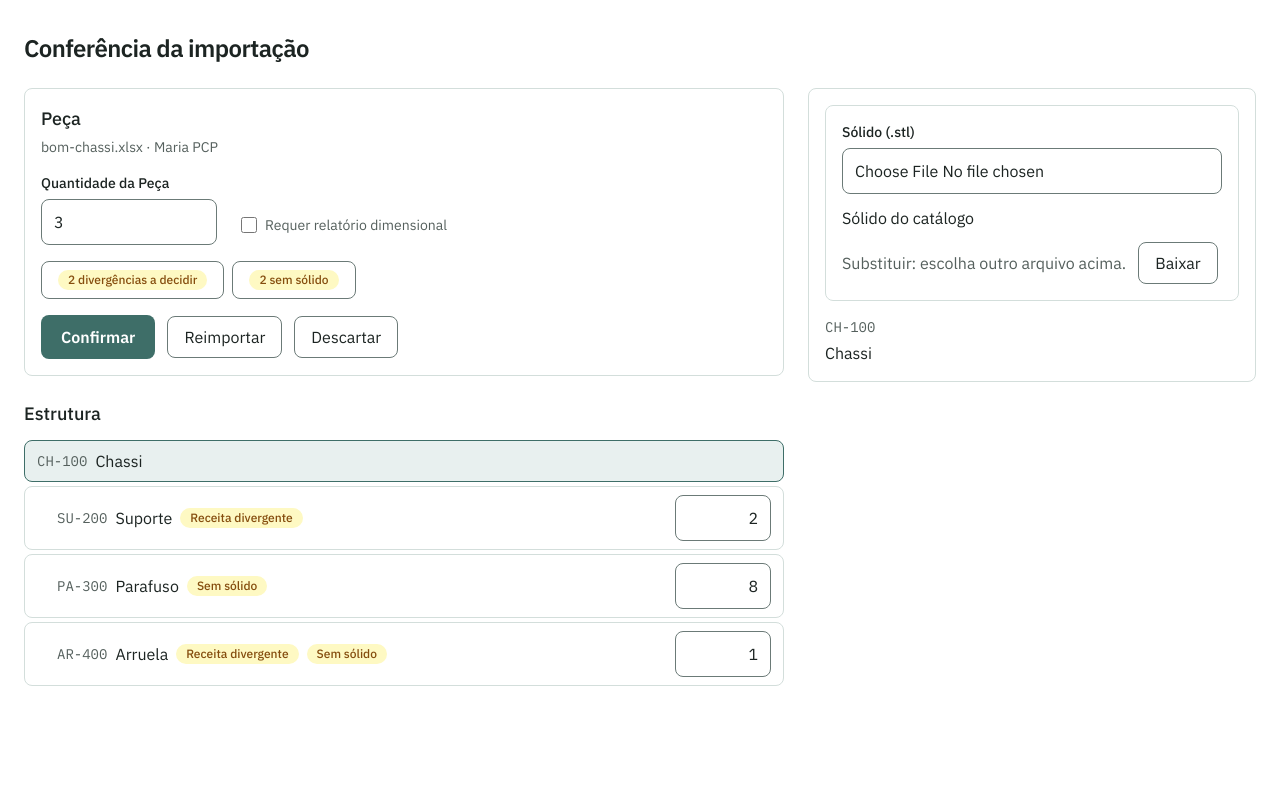
it: ConferenciaDeImportacaoPage › ReceitaDoCatalogoMudou_mostra_a_mensagem_e_rele
The image size is (1280, 800).
Click the button "Confirmar" at (98, 337), box [41, 315, 155, 359]
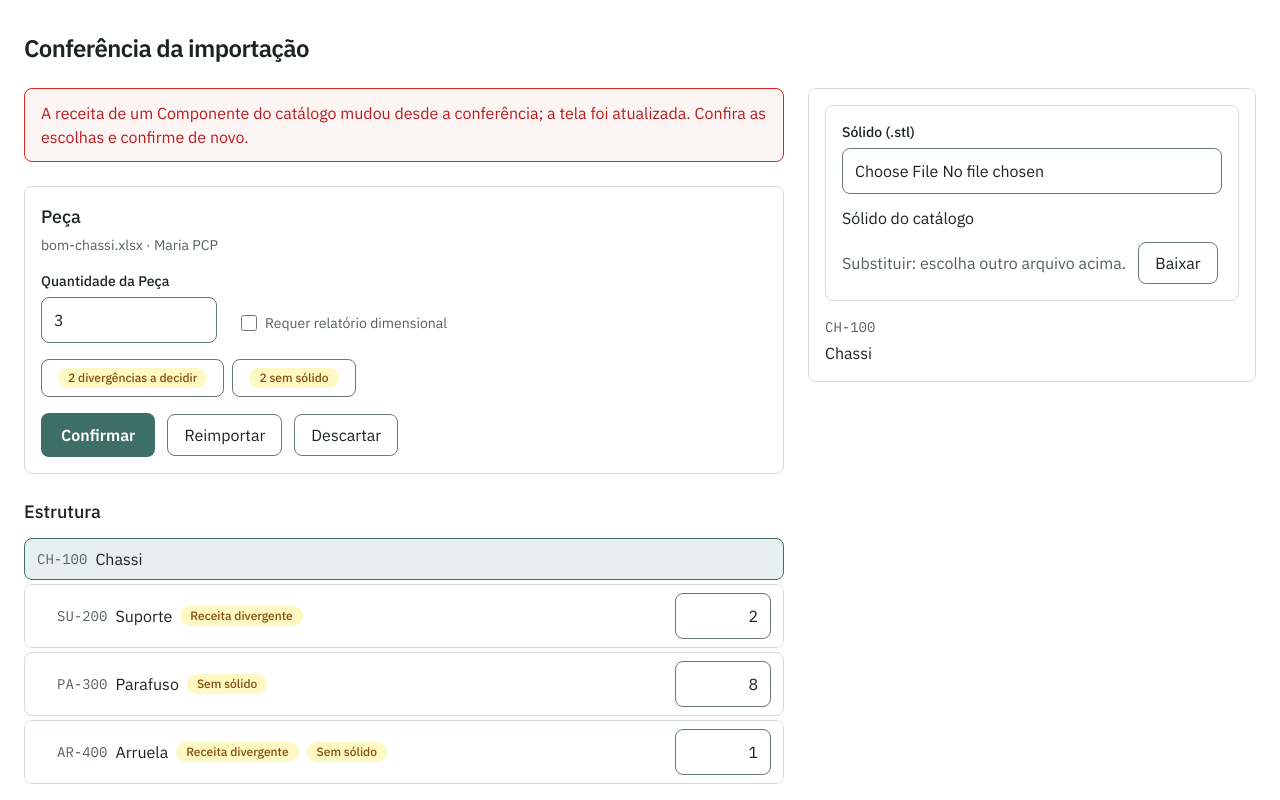
Expected: the message shows "A receita de um Componente do catálogo mudou desde a conferência; a tela foi atualizada. Confira as escolhas e confirme de novo.", [41, 103, 766, 147]
